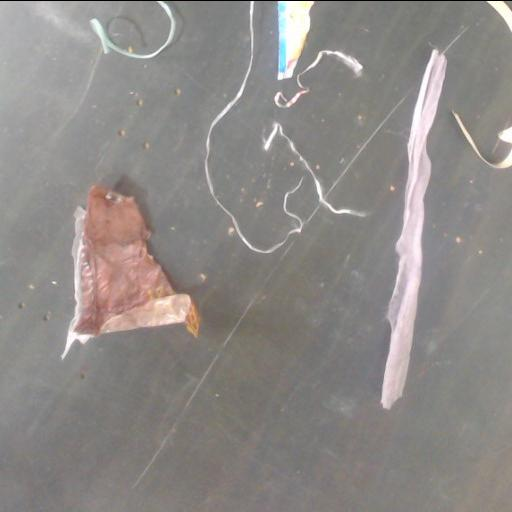cloth: (62, 186, 199, 357)
conveyor belt: (0, 1, 511, 512)
packet: (278, 1, 314, 79)
thread: (205, 1, 304, 252), (381, 49, 446, 408), (264, 123, 366, 215), (90, 1, 177, 58), (452, 111, 511, 168), (302, 50, 362, 74), (275, 75, 309, 107), (488, 1, 509, 23)
